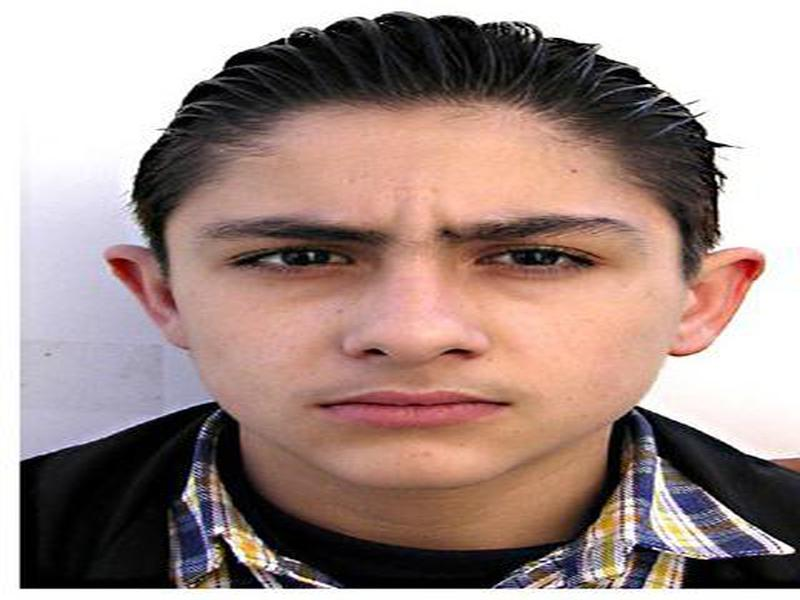without_mask: (172, 155, 678, 495)
